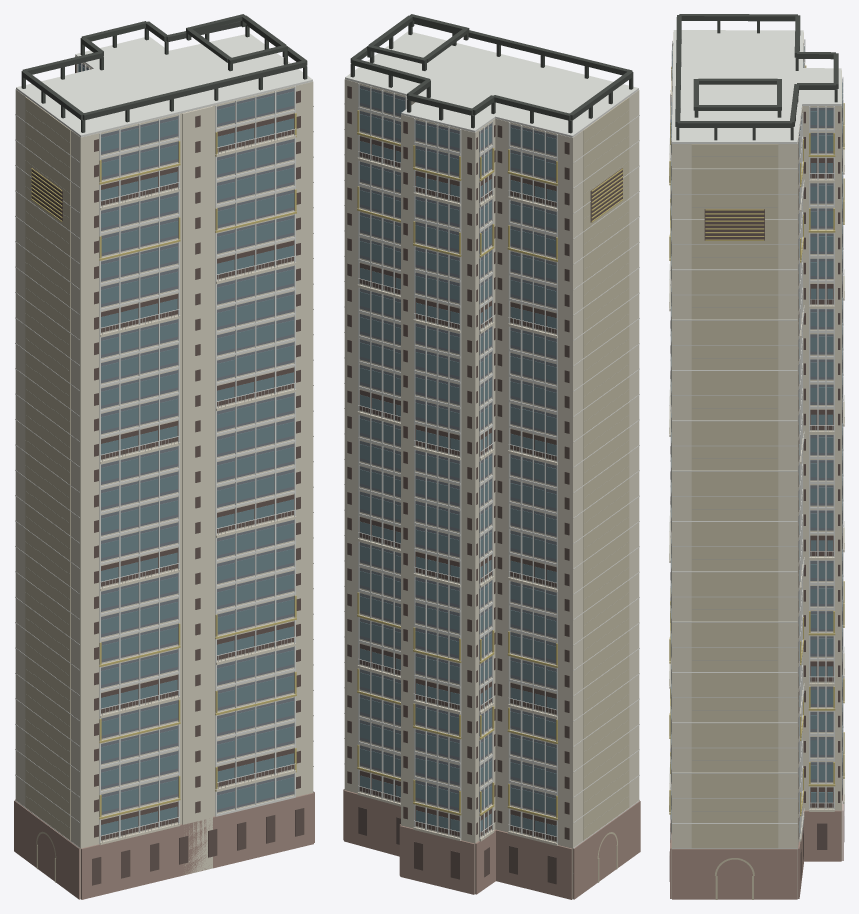
Rendered from bespoke-gangdong-lotte-castle-first-110.glb.
3 views of the same model, side by side, from view 1: azimuth 30°, elevation 25°; view 2: azimuth 150°, elevation 25°; view 3: azimuth 270°, elevation 25° (orthographic).
Parts seen in each view (by area): view 1: Lotte110_editable_Lotte110_warm_cream_panels, Lotte110_editable_Lotte110_turquoise_balcony_glazing, Lotte110_editable_Lotte110_broad_white_facade_frames, Lotte110_editable_Lotte110_buff_endwall_panels, Lotte110_editable_Lotte110_dark_horizontal_spandrels_and_mul, Lotte110_editable_Lotte110_arched_shadow_recess, Lotte110_editable_Lotte110_pink_brown_stone_base, Lotte110_editable_Lotte110_dark_open_roof_structure, Lotte110_editable_Lotte110_muted_yellow_gold_window_accents, Lotte110_editable_Lotte110_light_grey_solid_wall; view 2: Lotte110_editable_Lotte110_warm_cream_panels, Lotte110_editable_Lotte110_turquoise_balcony_glazing, Lotte110_editable_Lotte110_broad_white_facade_frames, Lotte110_editable_Lotte110_buff_endwall_panels, Lotte110_editable_Lotte110_arched_shadow_recess, Lotte110_editable_Lotte110_dark_horizontal_spandrels_and_mul, Lotte110_editable_Lotte110_pink_brown_stone_base, Lotte110_editable_Lotte110_dark_open_roof_structure, Lotte110_editable_Lotte110_muted_yellow_gold_window_accents, Lotte110_editable_Lotte110_light_grey_solid_wall; view 3: Lotte110_editable_Lotte110_buff_endwall_panels, Lotte110_editable_Lotte110_warm_cream_panels, Lotte110_editable_Lotte110_broad_white_facade_frames, Lotte110_editable_Lotte110_turquoise_balcony_glazing, Lotte110_editable_Lotte110_pink_brown_stone_base, Lotte110_editable_Lotte110_arched_shadow_recess, Lotte110_editable_Lotte110_dark_horizontal_spandrels_and_mul, Lotte110_editable_Lotte110_dark_open_roof_structure, Lotte110_editable_Lotte110_muted_yellow_gold_window_accents, Lotte110_editable_Lotte110_light_grey_solid_wall.
Boxes of the visible parts, box(x1,y1,x2,y2) form: Lotte110_editable_Lotte110_warm_cream_panels: box(15, 56, 313, 898); Lotte110_editable_Lotte110_turquoise_balcony_glazing: box(78, 64, 294, 835); Lotte110_editable_Lotte110_broad_white_facade_frames: box(15, 33, 313, 848); Lotte110_editable_Lotte110_buff_endwall_panels: box(25, 97, 70, 882); Lotte110_editable_Lotte110_dark_horizontal_spandrels_and_mul: box(78, 63, 294, 814); Lotte110_editable_Lotte110_arched_shadow_recess: box(31, 64, 304, 885); Lotte110_editable_Lotte110_pink_brown_stone_base: box(14, 792, 314, 899); Lotte110_editable_Lotte110_dark_open_roof_structure: box(21, 14, 307, 132); Lotte110_editable_Lotte110_muted_yellow_gold_window_accents: box(31, 113, 296, 819); Lotte110_editable_Lotte110_light_grey_solid_wall: box(25, 110, 69, 824); Lotte110_editable_Lotte110_warm_cream_panels: box(344, 79, 639, 899); Lotte110_editable_Lotte110_turquoise_balcony_glazing: box(359, 88, 556, 836); Lotte110_editable_Lotte110_broad_white_facade_frames: box(344, 31, 639, 873); Lotte110_editable_Lotte110_buff_endwall_panels: box(583, 97, 629, 882); Lotte110_editable_Lotte110_arched_shadow_recess: box(347, 86, 622, 884); Lotte110_editable_Lotte110_dark_horizontal_spandrels_and_mul: box(359, 85, 556, 815); Lotte110_editable_Lotte110_pink_brown_stone_base: box(343, 789, 640, 899); Lotte110_editable_Lotte110_dark_open_roof_structure: box(350, 14, 633, 133); Lotte110_editable_Lotte110_muted_yellow_gold_window_accents: box(357, 110, 623, 820); Lotte110_editable_Lotte110_light_grey_solid_wall: box(584, 112, 628, 826); Lotte110_editable_Lotte110_buff_endwall_panels: box(691, 144, 778, 899); Lotte110_editable_Lotte110_warm_cream_panels: box(669, 32, 844, 898); Lotte110_editable_Lotte110_broad_white_facade_frames: box(669, 30, 844, 848); Lotte110_editable_Lotte110_turquoise_balcony_glazing: box(671, 46, 842, 832); Lotte110_editable_Lotte110_pink_brown_stone_base: box(670, 795, 843, 899); Lotte110_editable_Lotte110_arched_shadow_recess: box(669, 44, 844, 881); Lotte110_editable_Lotte110_dark_horizontal_spandrels_and_mul: box(671, 43, 842, 811); Lotte110_editable_Lotte110_dark_open_roof_structure: box(675, 14, 838, 140); Lotte110_editable_Lotte110_muted_yellow_gold_window_accents: box(669, 65, 844, 816); Lotte110_editable_Lotte110_light_grey_solid_wall: box(692, 156, 777, 811).
Size of the model in its own units: 25.96 by 83.4 by 16.93.
